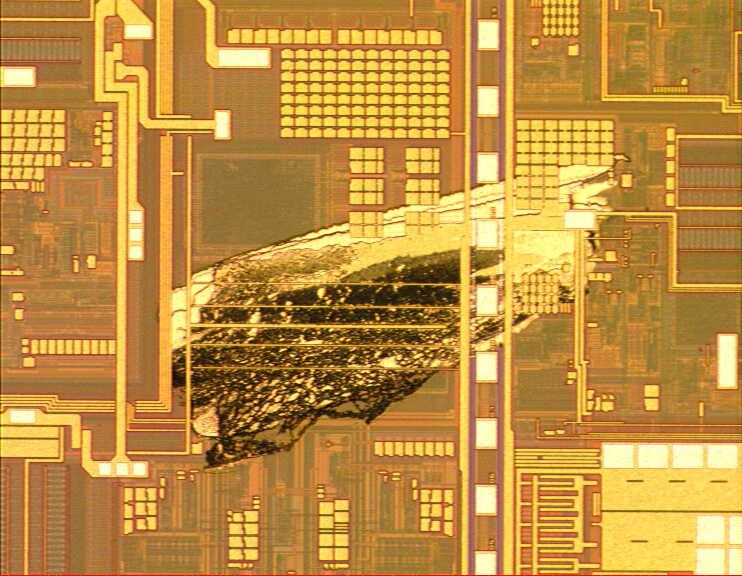BLOCK ETCH: (157, 151, 630, 477)
